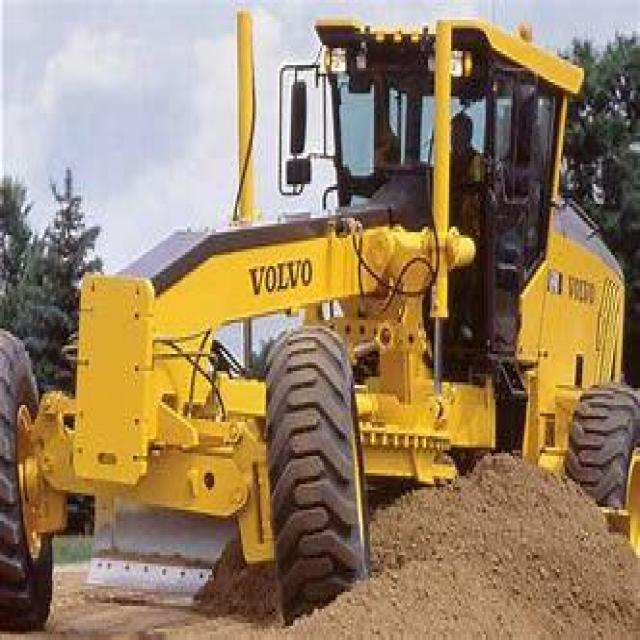Grader: (6, 3, 638, 637)
